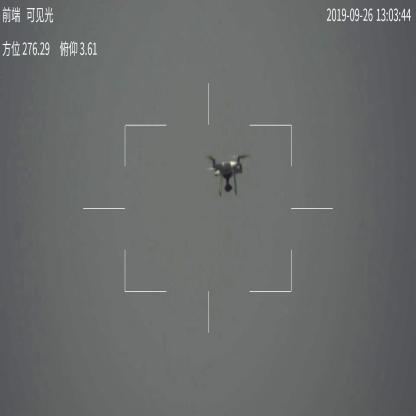uav: (207, 152, 249, 196)
